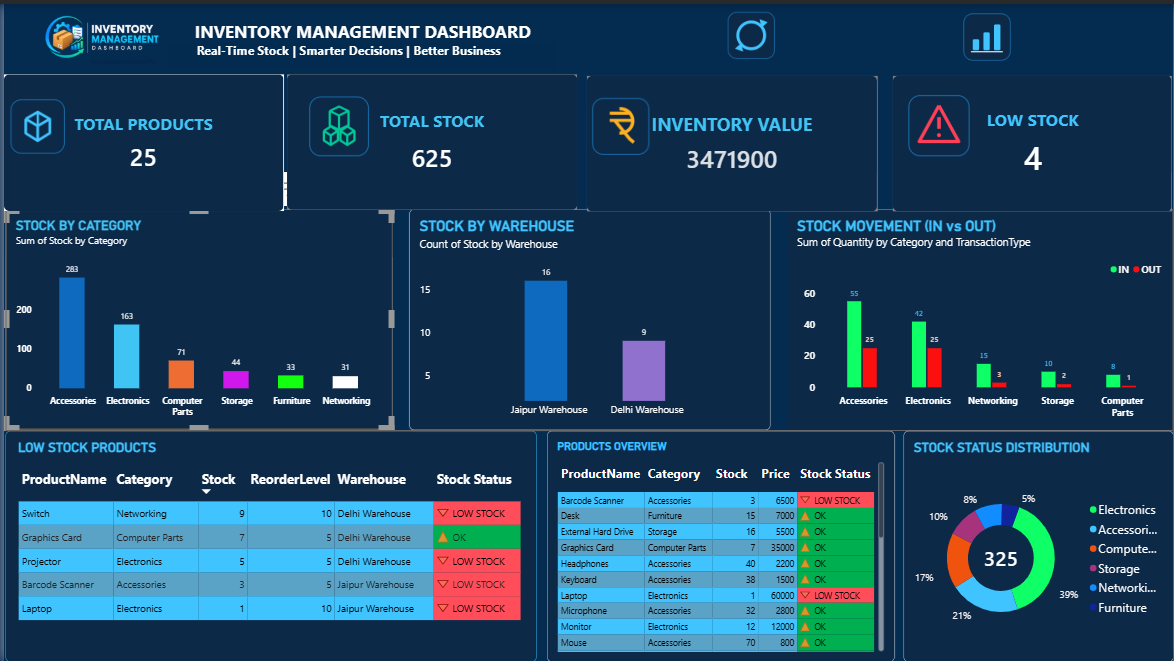

The page's visual inventory and layout, read from the dashboard file:
{"tool":"powerbi","page":{"name":"Page 1","canvas":[1920,1080],"ordinal":0},"visuals":[{"type":"image","box":[0,0,320,112.5],"z":0},{"type":"tableEx","title":"LOW STOCK PRODUCTS","fields":{"Values":["Products.ProductName","Products.Category","Products.Stock","Products.ReorderLevel","Products.Warehouse","Products.Stock Status"]},"box":[2.5,700.4,871.1,379.1],"z":1000},{"type":"cardVisual","fields":{"Data":["Sum(Products.Stock)"]},"box":[465.6,115,476,222.4],"z":2000,"group":"g2"},{"type":"group","id":"g1","title":"Group 1","box":[2.5,337.5,1917.5,362.5],"z":2000},{"type":"cardVisual","fields":{"Data":["Products.Inventory Value"]},"box":[956.2,116.7,476.9,222.4],"z":3000,"group":"g2"},{"type":"tableEx","title":"PRODUCTS OVERVIEW","fields":{"Values":["Products.ProductName","Products.Category","Products.Stock","Products.Price","Products.Stock Status"]},"box":[891.2,700.4,569.8,379.1],"z":3000},{"type":"cardVisual","fields":{"Data":["CountNonNull(Products.ProductID)"]},"box":[0,115.8,459.4,224.3],"z":4000,"group":"g2"},{"type":"donutChart","title":"STOCK STATUS DISTRIBUTION","fields":{"Category":["Products.Category","Products.StockStatus"],"Y":["Sum(Products.ProductID)"]},"box":[1476.1,700.4,444.3,379.1],"z":4000},{"type":"group","id":"g2","title":"Group 2","box":[0,115,1917.5,225],"z":5000},{"type":"cardVisual","fields":{"Data":["Products.Low Stock Products"]},"box":[1458.2,116.7,459.3,222.4],"z":5000,"group":"g2"},{"type":"image","box":[7.5,153.1,95.4,95.4],"z":6000},{"type":"clusteredColumnChart","title":"STOCK BY CATEGORY","fields":{"Category":["Products.Category"],"Y":["Sum(Products.Stock)"]},"box":[2.5,337.5,635.1,362.5],"z":6000,"group":"g1"},{"type":"image","box":[497,148.1,105.4,105.4],"z":7000},{"type":"clusteredColumnChart","title":"STOCK BY WAREHOUSE","fields":{"Category":["Products.Warehouse"],"Y":["CountNonNull(Products.Stock)"]},"box":[665.3,337.5,592.5,362.5],"z":7000,"group":"g1"},{"type":"image","box":[961.5,148.1,100.4,105.4],"z":8000},{"type":"clusteredColumnChart","title":"STOCK MOVEMENT (IN vs OUT)","fields":{"Category":["Products.Category"],"Series":["Transactions.TransactionType"],"Y":["Sum(Transactions.Quantity)"]},"box":[1284.9,337.5,635.1,362.5],"z":8000,"group":"g1"},{"type":"image","box":[1476.1,145.6,115.5,107.9],"z":9000},{"type":"image","box":[1561.4,12.6,102.9,82.8],"z":10000},{"type":"shape","title":" INVENTORY MANAGEMENT DASHBOARD","box":[270,25,635,82.5],"z":11000},{"type":"image","box":[1174.8,10,102.9,82.8],"z":12000}]}

Visuals, with their boxes in screenshot pixels (x1, y1, x2, y2), scaled from the page's 1920x1080 canvas onto the 1174x661 screenshot:
image: l=0, t=0, r=196, b=69
"LOW STOCK PRODUCTS" tableEx: l=2, t=429, r=534, b=660
cardVisual - Sum(Products.Stock): l=285, t=70, r=576, b=207
"Group 1" group: l=2, t=207, r=1173, b=428
cardVisual - Products.Inventory Value: l=585, t=71, r=876, b=208
"PRODUCTS OVERVIEW" tableEx: l=545, t=429, r=893, b=660
cardVisual - CountNonNull(Products.ProductID): l=0, t=71, r=281, b=208
"STOCK STATUS DISTRIBUTION" donutChart: l=903, t=429, r=1173, b=660
"Group 2" group: l=0, t=70, r=1172, b=208
cardVisual - Products.Low Stock Products: l=892, t=71, r=1172, b=208
image: l=5, t=94, r=63, b=152
"STOCK BY CATEGORY" clusteredColumnChart: l=2, t=207, r=390, b=428
image: l=304, t=91, r=368, b=155
"STOCK BY WAREHOUSE" clusteredColumnChart: l=407, t=207, r=769, b=428
image: l=588, t=91, r=649, b=155
"STOCK MOVEMENT (IN vs OUT)" clusteredColumnChart: l=786, t=207, r=1173, b=428
image: l=903, t=89, r=973, b=155
image: l=955, t=8, r=1018, b=58
" INVENTORY MANAGEMENT DASHBOARD" shape: l=165, t=15, r=553, b=66
image: l=718, t=6, r=781, b=57
